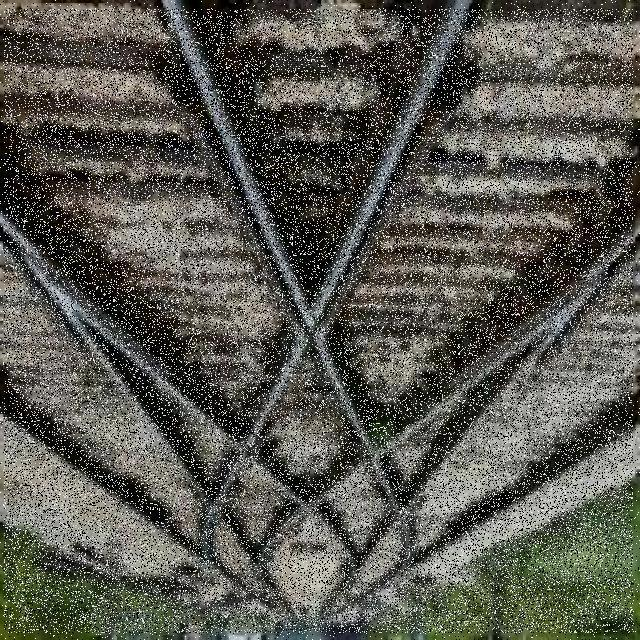rail: (5, 9, 633, 633)
